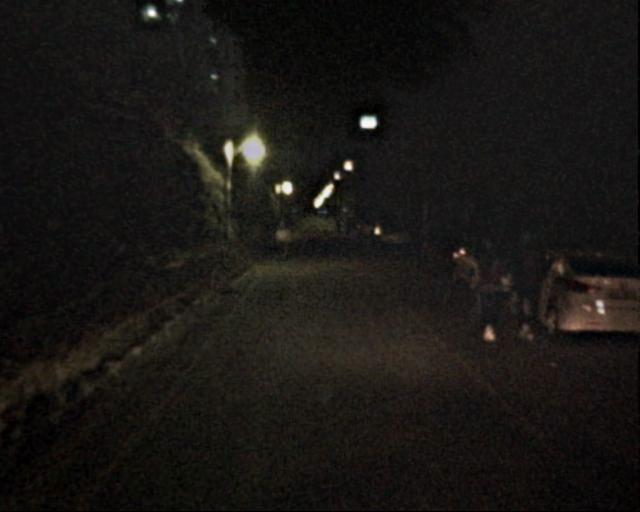person: (502, 231, 553, 344), (466, 238, 512, 345), (273, 217, 292, 261), (362, 221, 376, 253), (336, 219, 357, 239)
